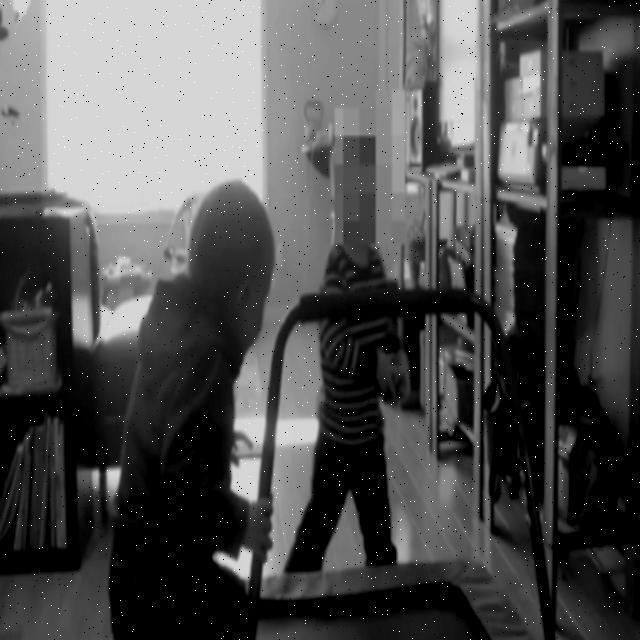child: (110, 180, 277, 640)
